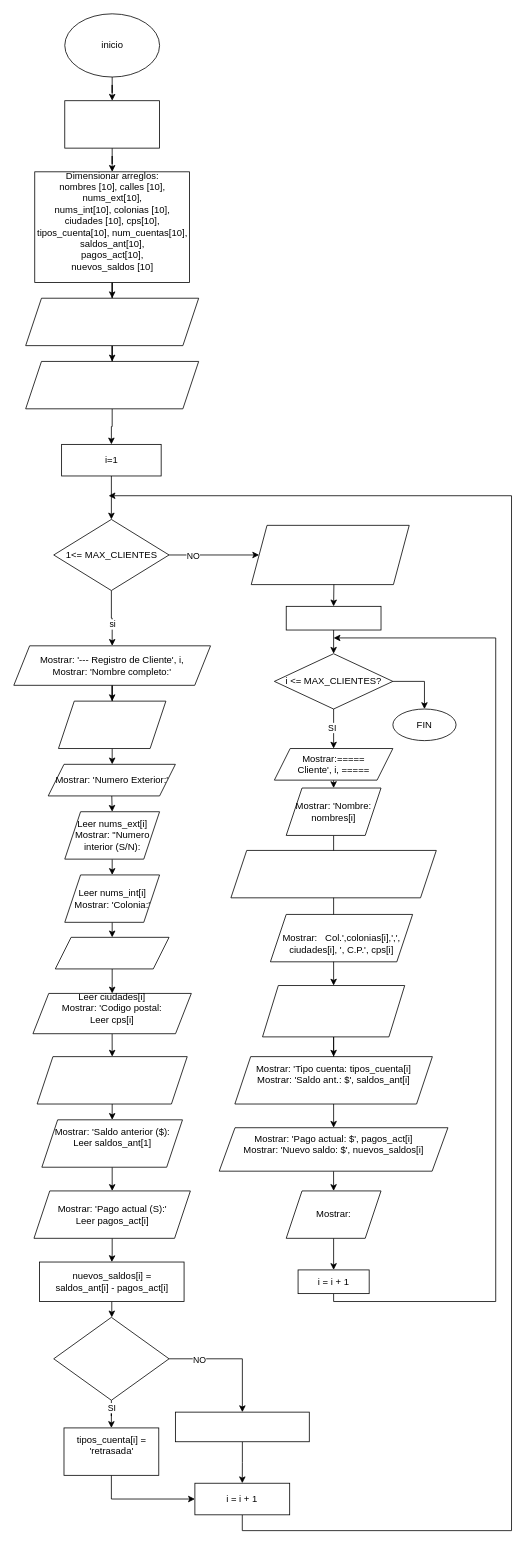
The diagram is 532 pixels wide and 1551 high, and some of its shapes have lost their labels. Here are the shapes that lost their labels. From the top down, the box of each, then its label:
(64, 100, 160, 148): max_clientes =10
(25, 297, 199, 346): Mostrar:Sistema de Facturación de Clientes
(25, 361, 199, 409): Mostrar: 'Se registraran', MAX_CLIENTES, 'clientes'
(250, 525, 409, 585): Mostrar: REPORTE DE CLIENTES
(285, 606, 381, 630): i = 1
(58, 700, 166, 749): Leer nombres[i] Mostrar: 'Calle:' Leer calles[i]
(230, 850, 436, 898): Mostrar: 'Direccion: calles[i], #, nums_ext[i], 'Int.', nums_int[i]
(55, 937, 169, 969): Leer colonias[i] Mostrar: 'Ciudad:'
(262, 985, 405, 1037): Mostrar: 'Num. Cuenta: num_cuentas[i]
(36, 1056, 187, 1104): Mostrar: 'Numero de cuenta: Leer num_cuentas[i]
(53, 1317, 169, 1400): nuevos_saldos[i] > 0?
(175, 1411, 309, 1442): tipos_cuenta[i] = 'al dia'
